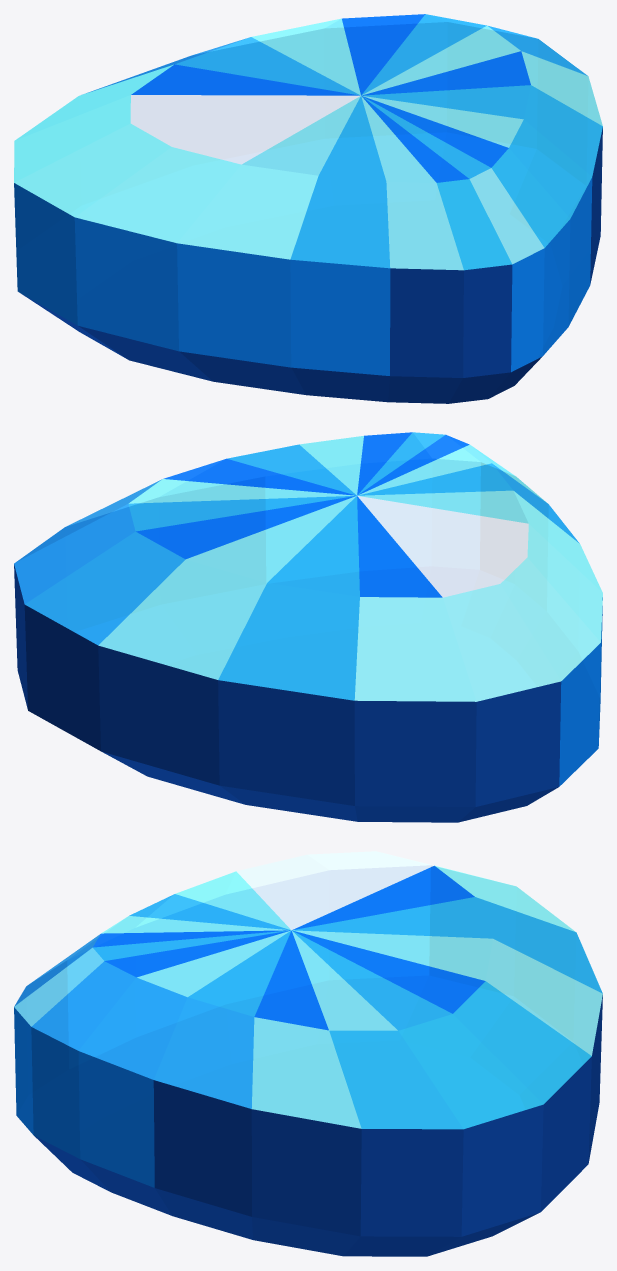
Rendered from Sapphire.glb.
3 renders of one model, top to bottom at view 1: azimuth 30°, elevation 25°; view 2: azimuth 150°, elevation 25°; view 3: azimuth 270°, elevation 25°, orthographic.
Visible parts, largest first — view 1: Sapphire_Clean_Pear; view 2: Sapphire_Clean_Pear; view 3: Sapphire_Clean_Pear.
Part boxes in pixels (x1,y1,x2,y2): Sapphire_Clean_Pear: (14, 14, 602, 403); Sapphire_Clean_Pear: (14, 432, 602, 822); Sapphire_Clean_Pear: (14, 851, 602, 1256).
Bounding box in the file's own units: 0.8847 × 0.345 × 0.8341.
